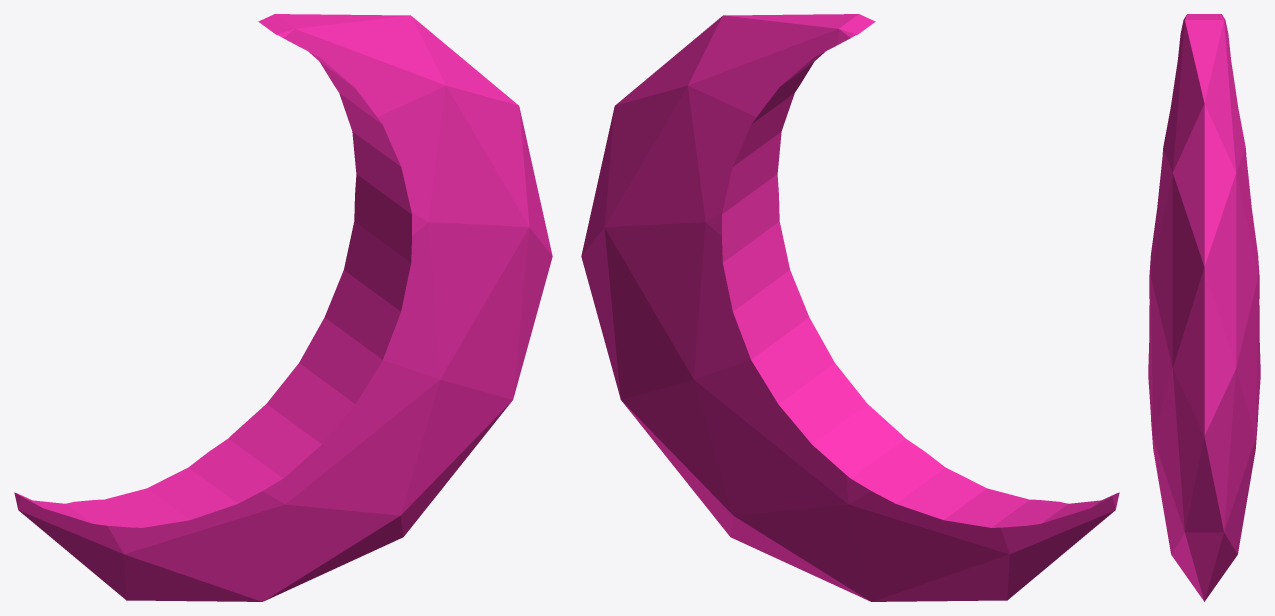
Rendered from moon.glb.
The picture shows the model from 3 angles, left to right: view 1: azimuth 30°, elevation 25°; view 2: azimuth 150°, elevation 25°; view 3: azimuth 270°, elevation 25°; orthographic projection. The views are drawn at different scales.
Visible parts, largest first — view 1: ICO球.002; view 2: ICO球.002; view 3: ICO球.002.
Part boxes in pixels (x1,y1,x2,y2): ICO球.002: (14, 14, 552, 601); ICO球.002: (581, 14, 1119, 601); ICO球.002: (1148, 14, 1260, 601).
Size of the model in its own units: 1.89 by 1.9 by 0.3552.
